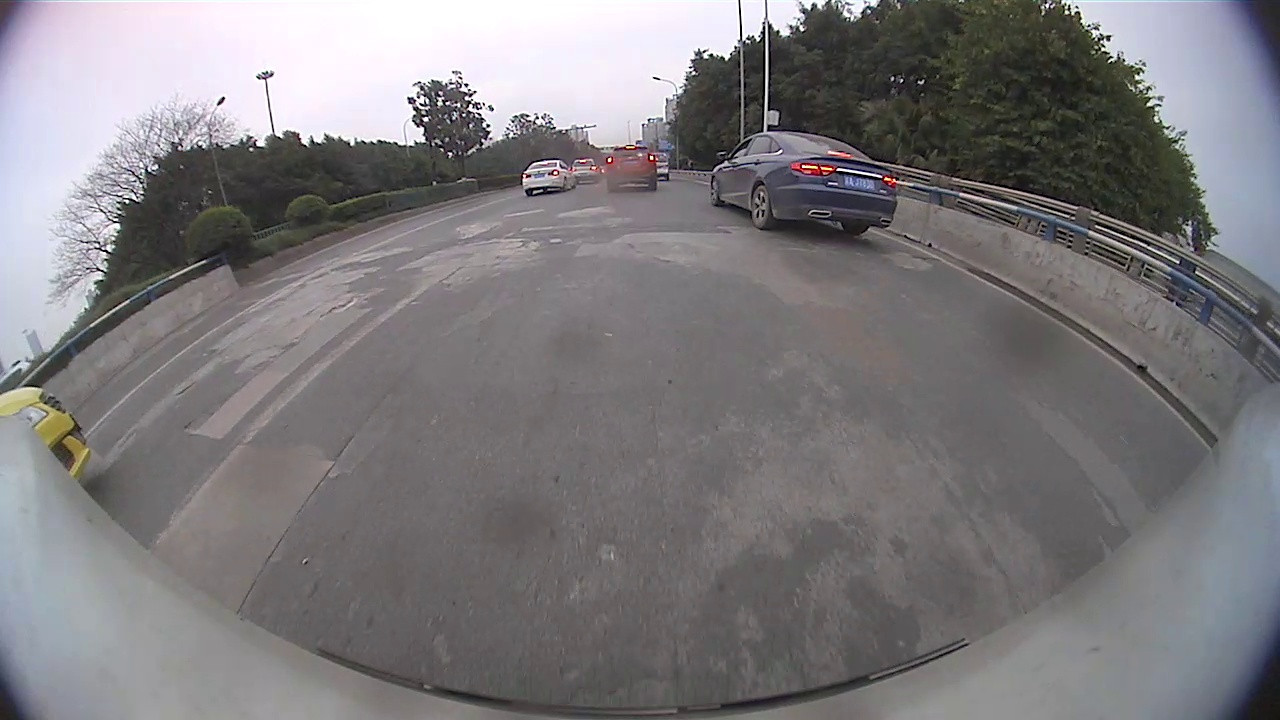car: (708, 129, 901, 236), (1, 383, 92, 482), (604, 143, 659, 195), (520, 157, 580, 196)
front: (707, 175, 723, 205)
rear: (748, 185, 776, 228)
